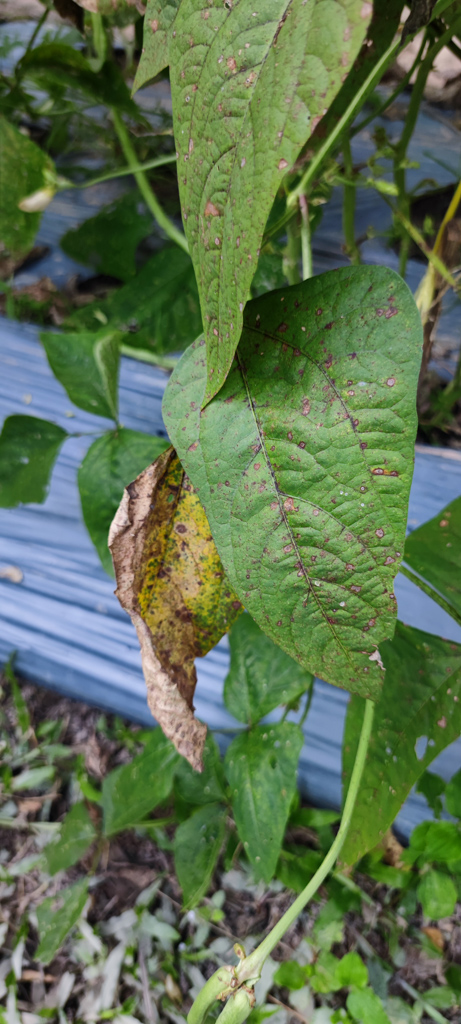Rust: (164, 265, 436, 709), (168, 4, 374, 417), (100, 447, 262, 778)
